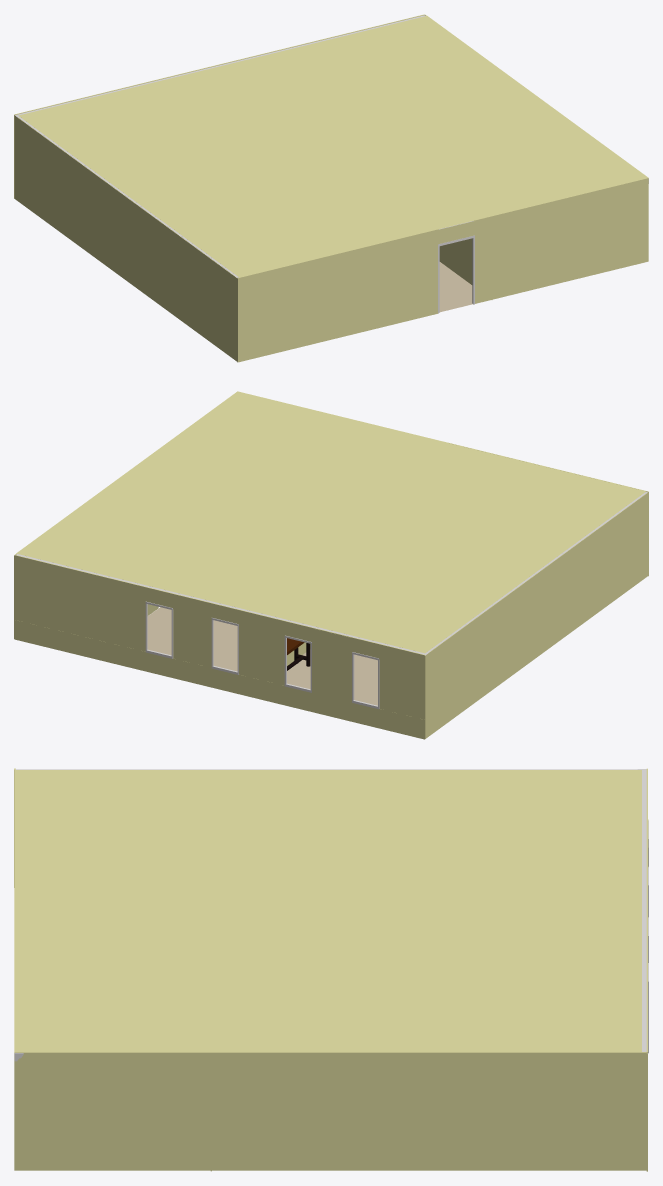
File: office.dae
3 renders of one model, top to bottom at view 1: azimuth 30°, elevation 25°; view 2: azimuth 150°, elevation 25°; view 3: azimuth 270°, elevation 25°, orthographic. The views are drawn at different scales.
Visible parts, largest first — view 1: Cube.023, Cube.000, Cube.012, Cube.011, Cube.015, Cube.014, Cube.032, Cube.004, Cube.034, Cube.022; view 2: Cube.023, Cube.000, Cube.002, Cube.029, Cube.004, Cube.014, Cube.026, Cube.027, Cube.028, Cube.030, Cube.032, Cube.034; view 3: Cube.023, Cube.001, Cube.032, Cube.034.
Boxes of the visible parts, left/top/right/bottom form: Cube.023: left=18, top=16, right=648, bottom=277; Cube.000: left=14, top=115, right=238, bottom=362; Cube.012: left=237, top=229, right=438, bottom=362; Cube.011: left=474, top=178, right=648, bottom=303; Cube.015: left=439, top=216, right=492, bottom=299; Cube.014: left=439, top=262, right=472, bottom=312; Cube.032: left=15, top=15, right=424, bottom=117; Cube.004: left=14, top=14, right=424, bottom=115; Cube.034: left=16, top=114, right=237, bottom=277; Cube.022: left=438, top=221, right=474, bottom=243; Cube.023: left=16, top=391, right=645, bottom=653; Cube.000: left=425, top=492, right=648, bottom=738; Cube.002: left=14, top=620, right=424, bottom=739; Cube.029: left=14, top=555, right=145, bottom=651; Cube.004: left=14, top=555, right=425, bottom=670; Cube.014: left=147, top=607, right=377, bottom=705; Cube.026: left=311, top=628, right=352, bottom=721; Cube.027: left=379, top=655, right=425, bottom=738; Cube.028: left=239, top=625, right=284, bottom=685; Cube.030: left=173, top=609, right=211, bottom=667; Cube.032: left=18, top=554, right=428, bottom=655; Cube.034: left=425, top=492, right=647, bottom=654; Cube.023: left=14, top=770, right=641, bottom=1052; Cube.001: left=14, top=1052, right=646, bottom=1170; Cube.032: left=637, top=769, right=646, bottom=1051; Cube.034: left=16, top=769, right=645, bottom=773.
Size of the model in its own units: 161 by 152 by 31.59.
